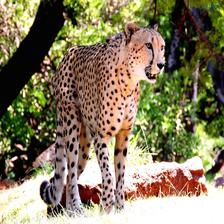Cheetah: (40, 20, 169, 215)
